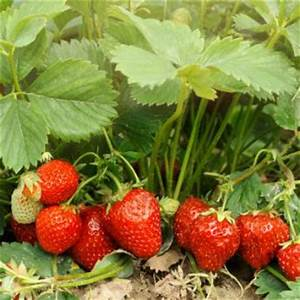Fresa: (101, 182, 167, 263), (232, 207, 292, 275), (188, 207, 244, 276), (19, 154, 84, 209), (32, 202, 87, 258)
